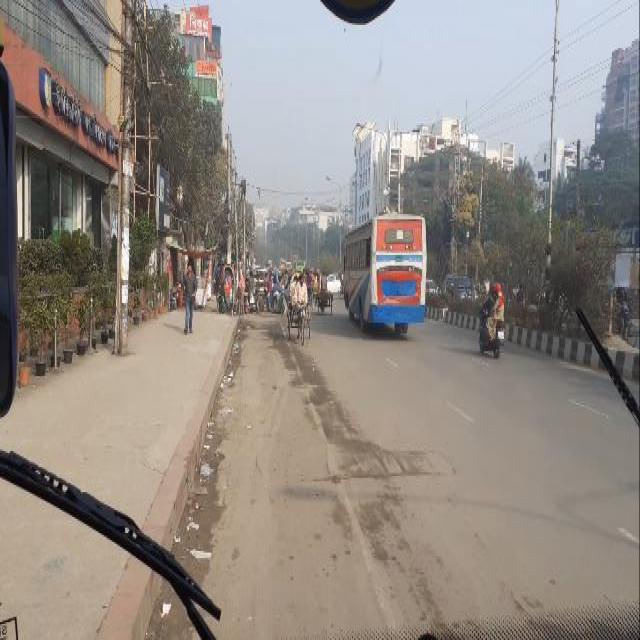bike: (478, 283, 507, 359)
vehicle: (343, 210, 427, 333), (605, 285, 638, 346), (217, 261, 248, 324), (287, 268, 311, 345), (440, 271, 480, 303), (315, 289, 333, 314), (305, 268, 313, 307), (337, 266, 345, 298), (273, 269, 284, 287), (293, 259, 306, 269), (280, 256, 287, 268), (286, 260, 293, 269), (266, 259, 273, 266)
